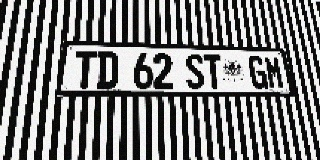2: (153, 53, 173, 89)
6: (133, 52, 153, 89)
D: (96, 51, 118, 89)
G: (247, 56, 269, 89)
M: (264, 56, 285, 89)
S: (185, 54, 205, 89)
T: (73, 51, 97, 89), (203, 54, 224, 89)
